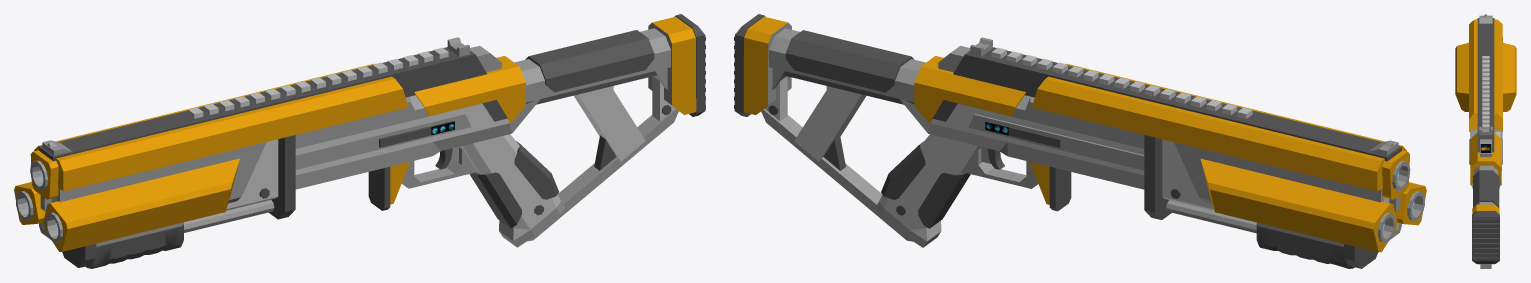
The picture shows the model from 3 angles, left to right: view 1: azimuth 30°, elevation 25°; view 2: azimuth 150°, elevation 25°; view 3: azimuth 270°, elevation 25°; orthographic projection. The views are drawn at different scales.
Parts seen in each view (by area): view 1: SM_SG01, SM_SG01_Grip; view 2: SM_SG01, SM_SG01_Grip; view 3: SM_SG01.
Boxes of the visible parts, x1,y1,x2,y2 form: SM_SG01: (14,14,705,267); SM_SG01_Grip: (85,222,183,268); SM_SG01: (734,14,1426,268); SM_SG01_Grip: (1256,222,1354,268); SM_SG01: (1455,14,1516,268).
Size of the model in its own units: 68.9 by 21.26 by 9.72.
Materials: 6 (1 with a texture image).
